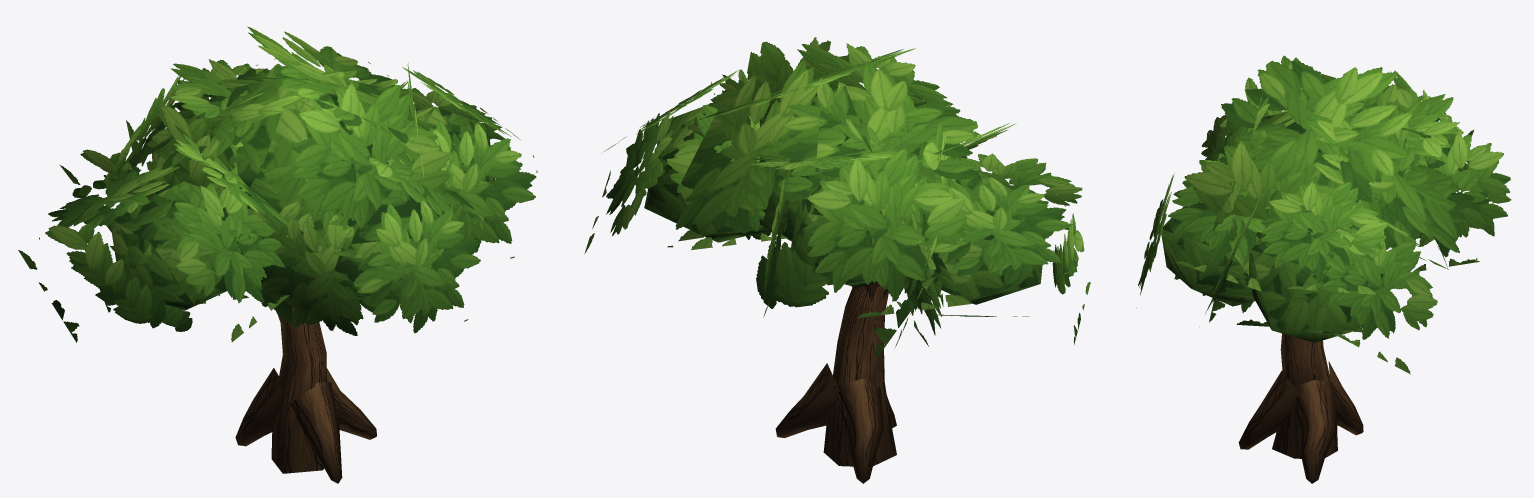
The model's file is tree_green_c_lod1.glb.
3 views of the same model, side by side, from view 1: azimuth 30°, elevation 25°; view 2: azimuth 150°, elevation 25°; view 3: azimuth 270°, elevation 25° (orthographic). The views are drawn at different scales.
Visible parts, largest first — view 1: tree_green_c_lod1; view 2: tree_green_c_lod1; view 3: tree_green_c_lod1.
Boxes of the visible parts, x1,y1,x2,y2 form: tree_green_c_lod1: (18,26,537,483); tree_green_c_lod1: (584,37,1090,483); tree_green_c_lod1: (1136,55,1511,483).
Size of the model in its own units: 4.08 by 3.37 by 2.93.
2 materials, 2 textured.
